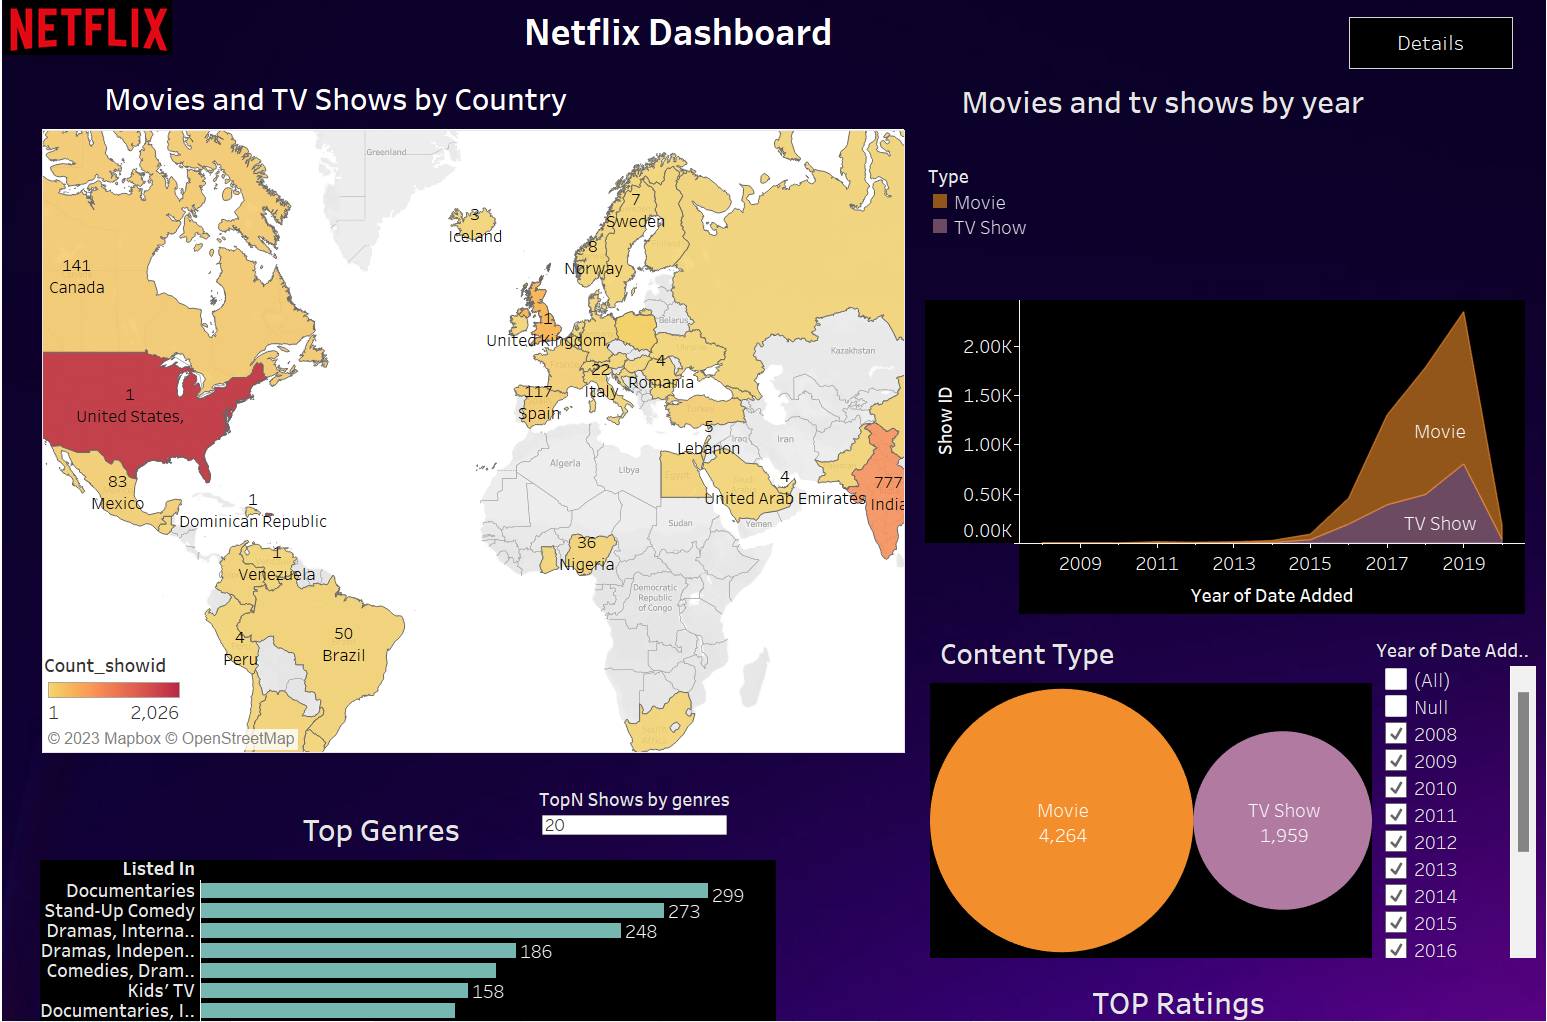

Layout of this report page (visuals, bound fields, positions):
{"tool":"tableau","page":{"name":"Dashboard 1","canvas":[1600,1400],"ordinal":0},"visuals":[{"type":"image","box":[8,8,32,1384]},{"type":"image","param":"Image/Screenshot (21).png","box":[40,8,1552,1384]},{"type":"image","param":"Image/netflix_logo.png","box":[12,13,236,56]},{"type":"text","box":[562,19,317,50]},{"type":"dashboard-object","box":[1391,31,164,52]},{"type":"worksheet","title":"tvshows_country","mark":"Automatic","box":[84,87,863,680]},{"type":"worksheet","title":"tvshows_year","mark":"Area","rows":["Calculation_606860052800520192"],"cols":["date_added"],"box":[967,90,600,538]},{"type":"legend","title":"tvshows_year","param":"[federated.1dq7rbh0uckeba1brfdlr1r6rfwm].[none:type:nk]","box":[970,177,140,106]},{"type":"worksheet","title":"content_type","mark":"Circle","box":[972,643,442,329]},{"type":"filter","title":"tvshows_year","param":"[federated.1dq7rbh0uckeba1brfdlr1r6rfwm].[yr:date_added:ok]","box":[1418,651,160,321]},{"type":"legend","title":"tvshows_country","param":"[federated.1dq7rbh0uckeba1brfdlr1r6rfwm].[usr:Calculation_606860052800520192:qk]","box":[86,666,140,100]},{"type":"parameter","param":"[Parameters].[Parameter 1]","box":[581,800,191,71]},{"type":"worksheet","title":"top_ratings","mark":"Automatic","rows":["Calculation_606860052800520192"],"cols":["rating"],"box":[865,991,717,373]},{"type":"parameter","param":"[Parameters].[Parameter 3]","box":[1374,1038,198,75]}]}

Visuals, with their boxes on the page's 1600x1400 design canvas (x1, y1, x2, y2). These are canvas units, not pixel positions in the 1547x1022 screenshot, which may show the page scaled, cropped or inside an application window:
image: {"x1": 8, "y1": 8, "x2": 40, "y2": 1392}
image: {"x1": 40, "y1": 8, "x2": 1592, "y2": 1392}
image: {"x1": 12, "y1": 13, "x2": 248, "y2": 69}
text: {"x1": 562, "y1": 19, "x2": 879, "y2": 69}
dashboard-object: {"x1": 1391, "y1": 31, "x2": 1555, "y2": 83}
"tvshows_country" worksheet: {"x1": 84, "y1": 87, "x2": 947, "y2": 767}
"tvshows_year" worksheet (Area marks): {"x1": 967, "y1": 90, "x2": 1567, "y2": 628}
"tvshows_year" legend: {"x1": 970, "y1": 177, "x2": 1110, "y2": 283}
"content_type" worksheet (Circle marks): {"x1": 972, "y1": 643, "x2": 1414, "y2": 972}
"tvshows_year" filter: {"x1": 1418, "y1": 651, "x2": 1578, "y2": 972}
"tvshows_country" legend: {"x1": 86, "y1": 666, "x2": 226, "y2": 766}
parameter: {"x1": 581, "y1": 800, "x2": 772, "y2": 871}
"top_ratings" worksheet: {"x1": 865, "y1": 991, "x2": 1582, "y2": 1364}
parameter: {"x1": 1374, "y1": 1038, "x2": 1572, "y2": 1113}
